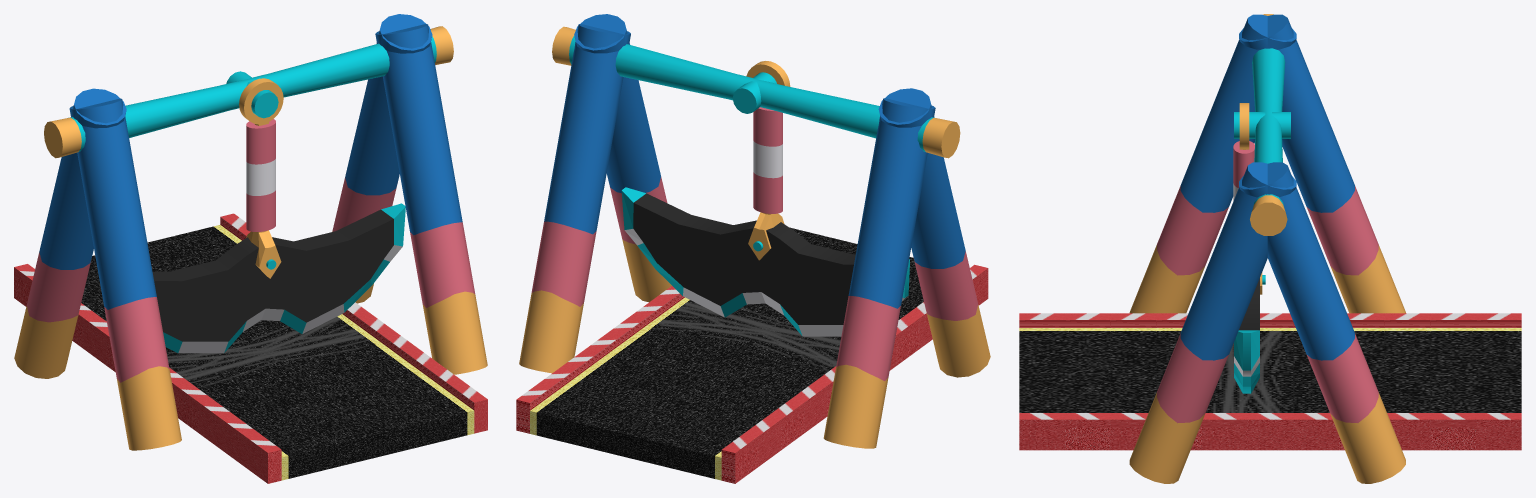
The model's file is Special track - Swinging axe 2.fbx.
3 renders of one model, left to right at view 1: azimuth 30°, elevation 25°; view 2: azimuth 150°, elevation 25°; view 3: azimuth 270°, elevation 25°, orthographic.
Parts seen in each view (by area): view 1: Speical Track - Swinging axe, Swinging axe; view 2: Speical Track - Swinging axe, Swinging axe; view 3: Speical Track - Swinging axe, Swinging axe.
Part boxes in pixels (x1=…): Speical Track - Swinging axe: x1=14, y1=14, x2=487, y2=483; Swinging axe: x1=152, y1=71, x2=405, y2=353; Speical Track - Swinging axe: x1=516, y1=14, x2=990, y2=483; Swinging axe: x1=621, y1=61, x2=909, y2=336; Speical Track - Swinging axe: x1=1019, y1=14, x2=1521, y2=483; Swinging axe: x1=1233, y1=103, x2=1290, y2=393.
Bounding box in the file's own units: 88.9 × 68.16 × 100.
